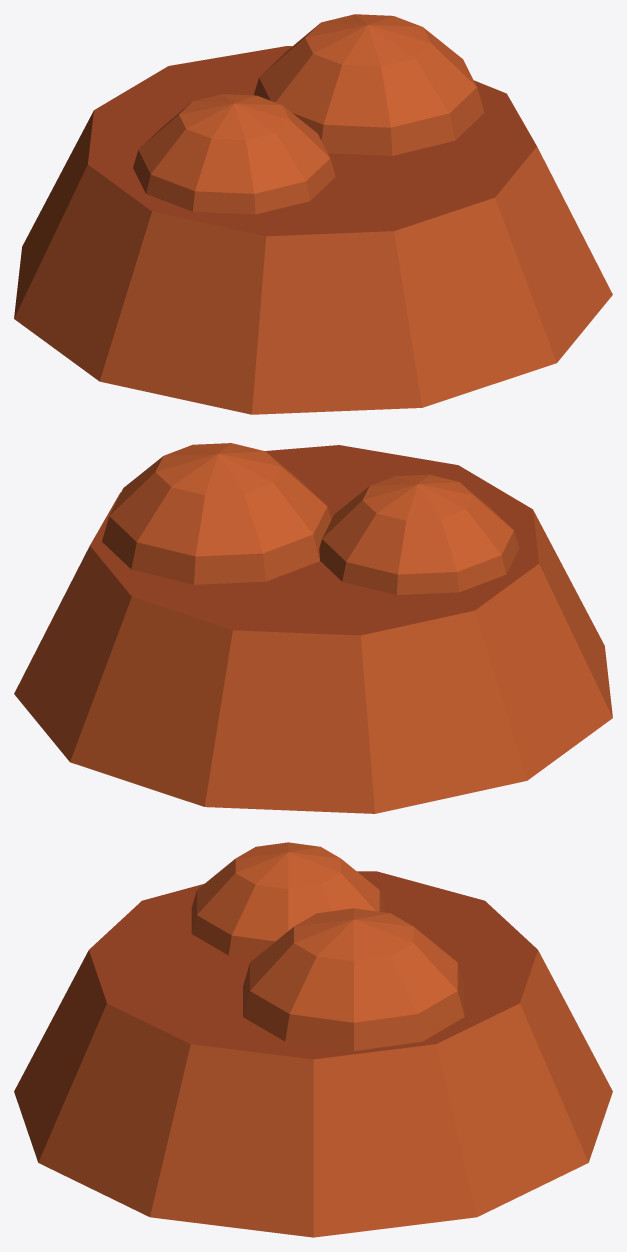
Rendered from uluru.glb.
The picture shows the model from 3 angles, top to bottom: view 1: azimuth 30°, elevation 25°; view 2: azimuth 150°, elevation 25°; view 3: azimuth 270°, elevation 25°; orthographic projection.
Parts seen in each view (by area): view 1: uluru; view 2: uluru; view 3: uluru.
Boxes of the visible parts, box(x1,y1,x2,y2) form: uluru: box(14, 14, 612, 414); uluru: box(14, 443, 612, 813); uluru: box(14, 842, 612, 1237).
Size of the model in its own units: 1.18 by 0.5 by 1.19.
